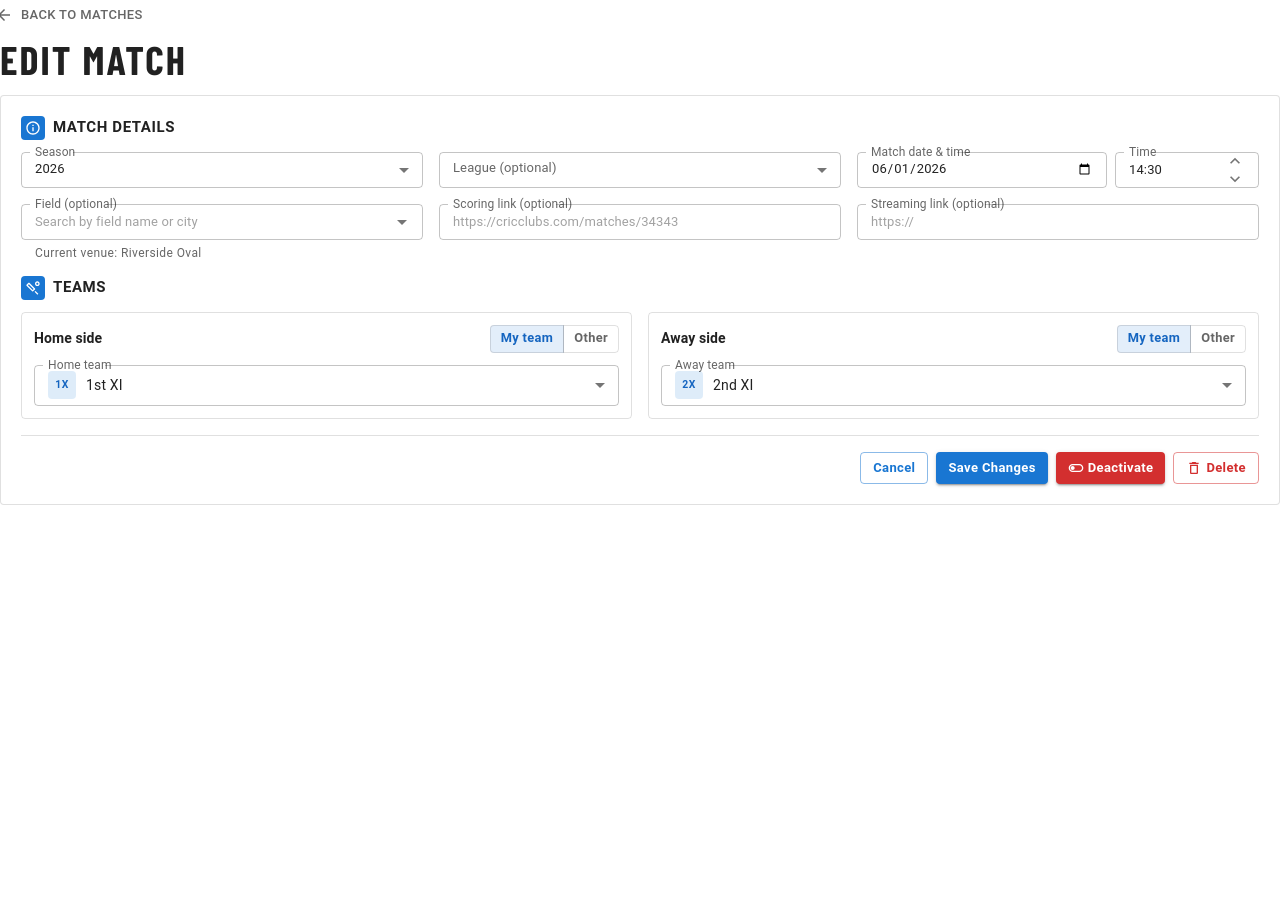
Test: MatchFormPage › Delete (109) › shows a 409 message inside the dialog and stays on the page
Click the button "Delete": coordinates (1216, 468) [1173,452,1259,484]
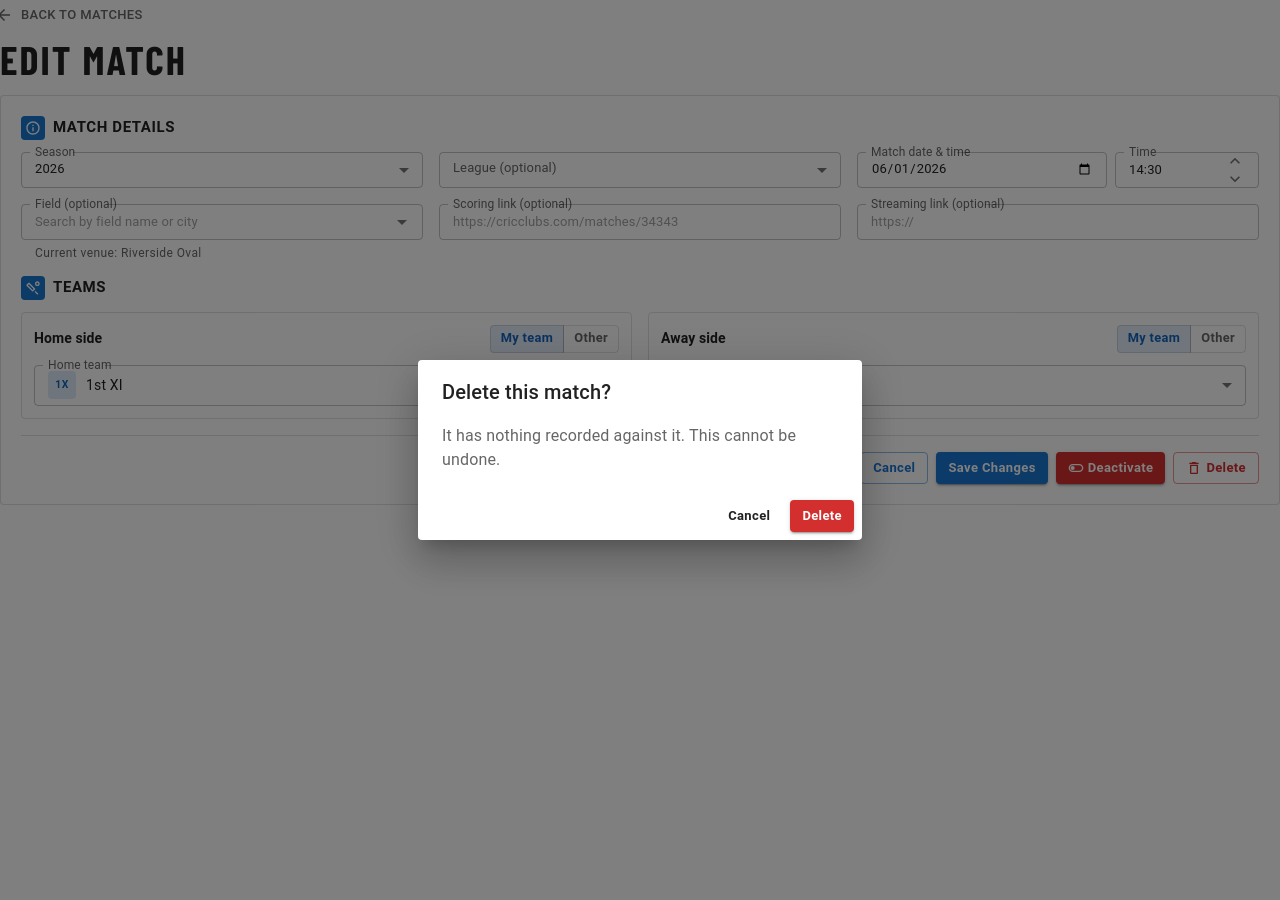
Click the button "Delete": coordinates (822, 516) [790,500,854,532]
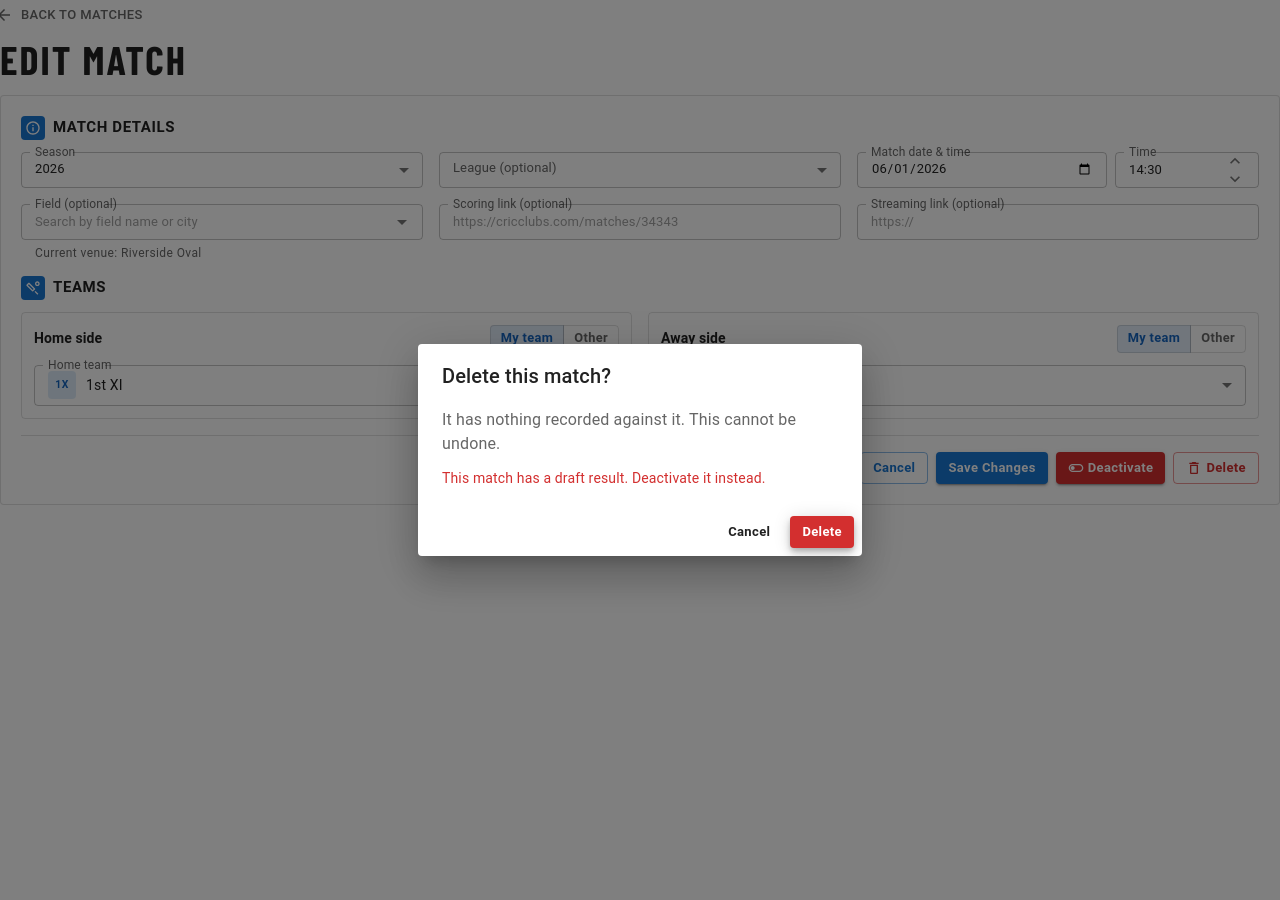
Expected: the dialog is shown, [418,344,862,556]
Expected: the message reads "This match has a draft result. Deactivate it instead.", [442,470,766,486]
